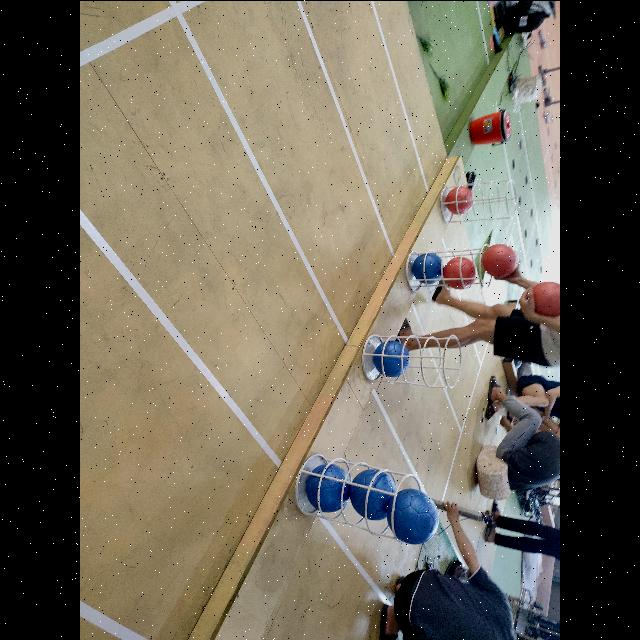B: (388, 488, 438, 544), (348, 469, 394, 519), (305, 464, 351, 512), (374, 339, 410, 376), (413, 252, 443, 282)
R: (482, 242, 520, 278), (444, 255, 476, 289), (446, 186, 474, 214)
